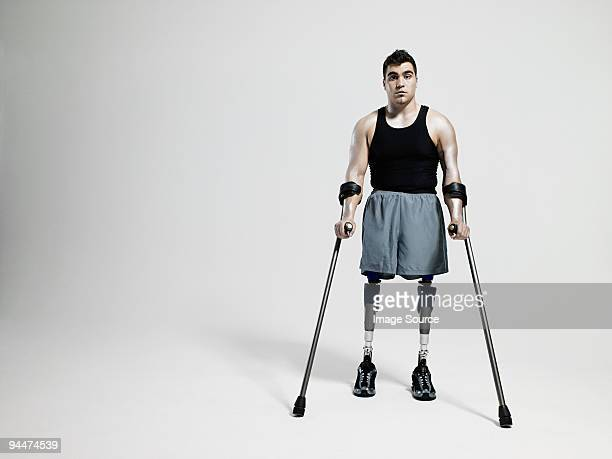crutches: (290, 48, 513, 428)
